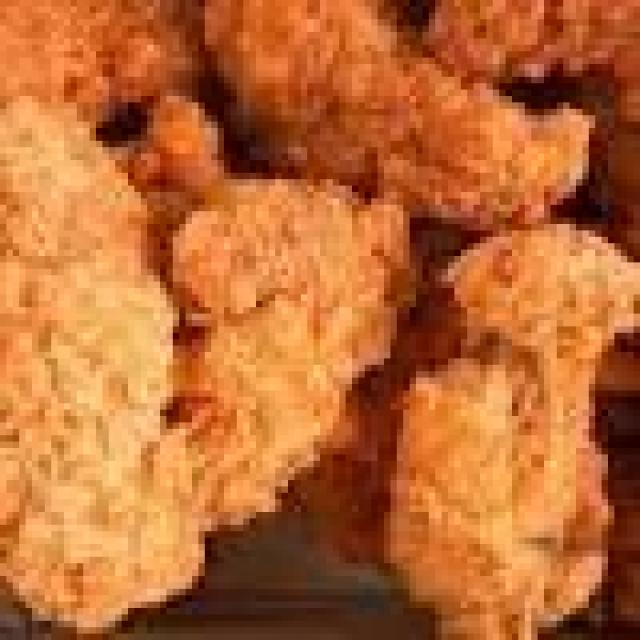Chicken -Fried Chicken-: (0, 109, 205, 634), (172, 173, 410, 525)
